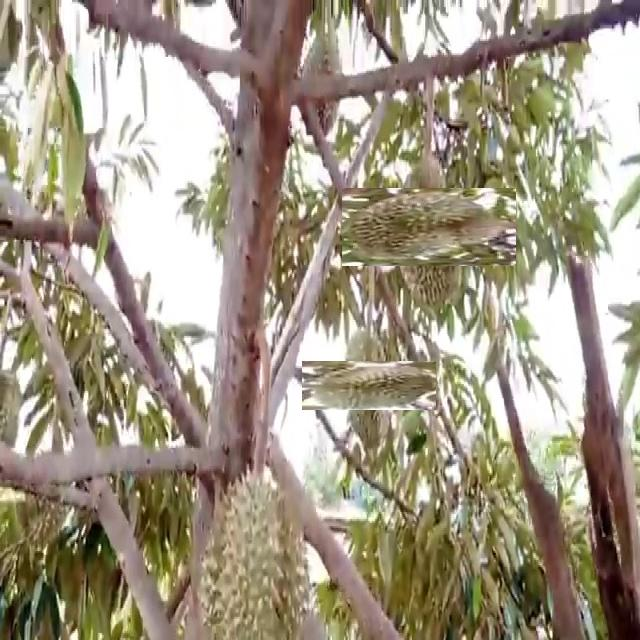durian: (193, 468, 315, 638), (365, 164, 492, 291), (323, 339, 415, 431)
